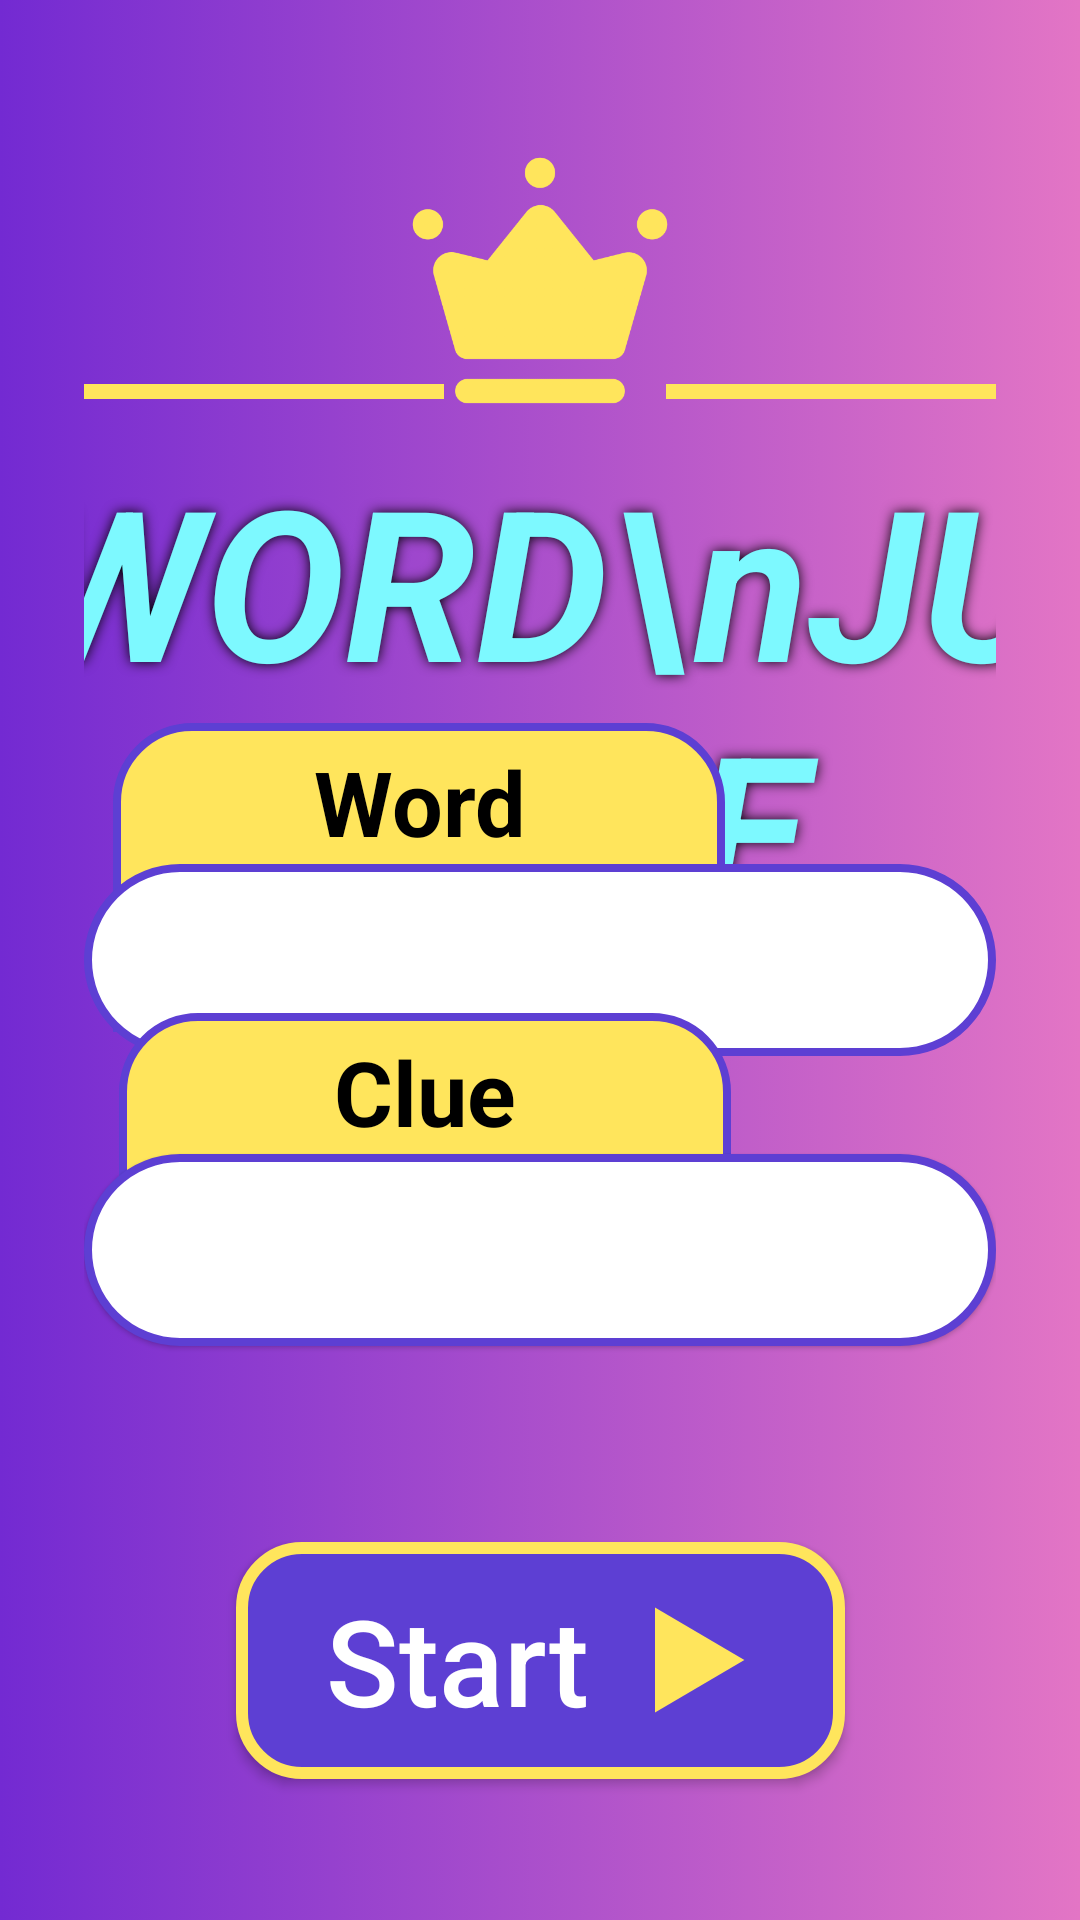

Point at icon controls on the screen. Image size 1080px x 1920px, points as point (x, y).
premium quality: point (540, 282)
